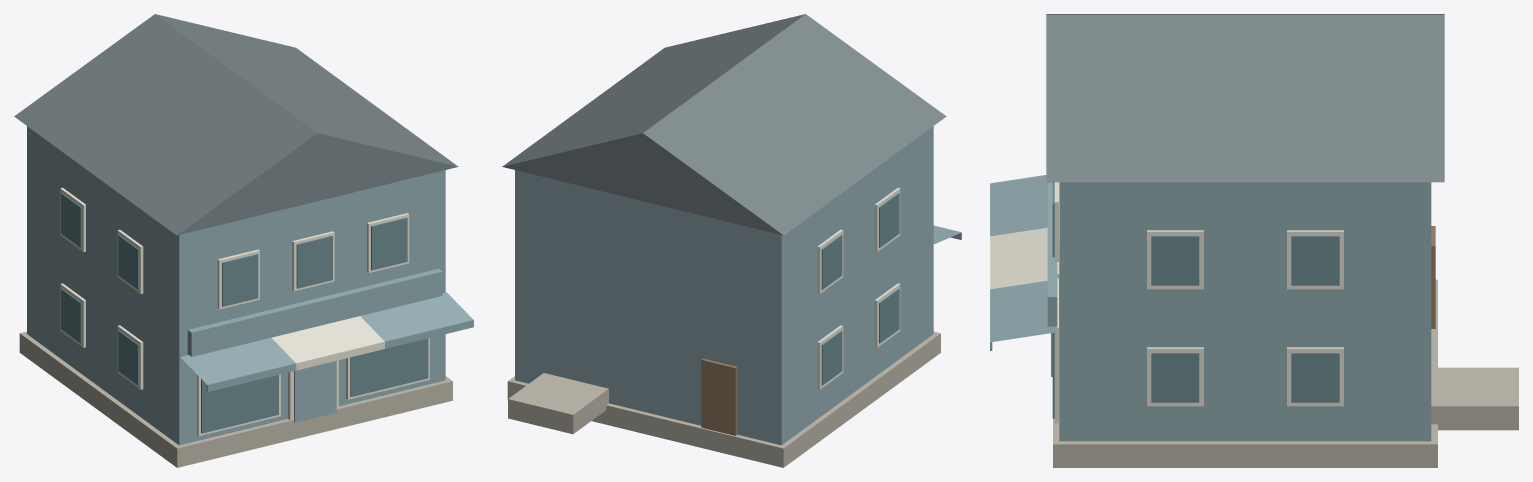
The picture shows the model from 3 angles, left to right: view 1: azimuth 30°, elevation 25°; view 2: azimuth 150°, elevation 25°; view 3: azimuth 270°, elevation 25°; orthographic projection. The views are drawn at different scales.
Bounding box in the file's own units: 9.1 × 9.35 × 12.09.
